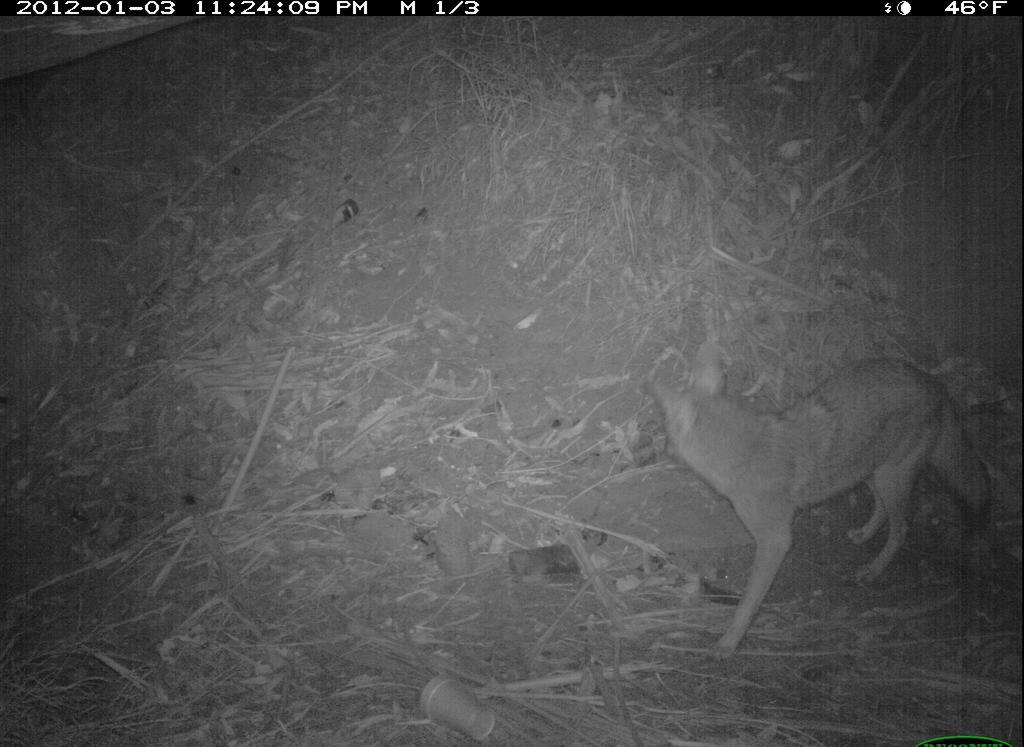coyote: (633, 332, 1005, 666)
